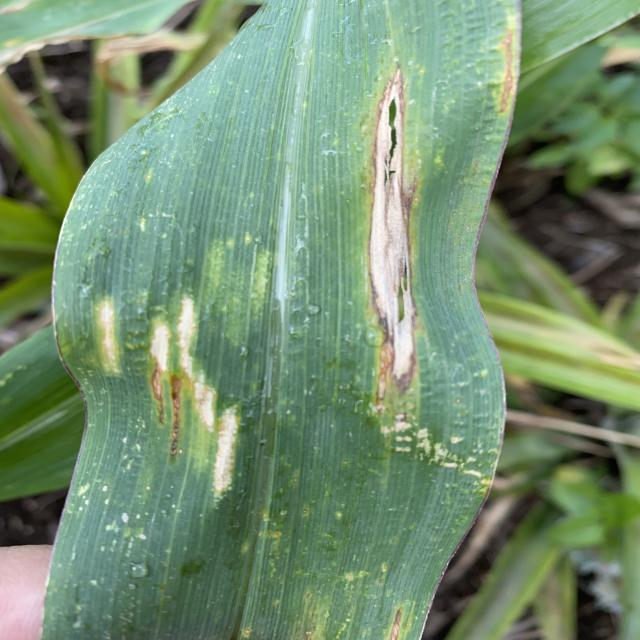Corn_Leaf_Blight: (56, 0, 520, 640)
